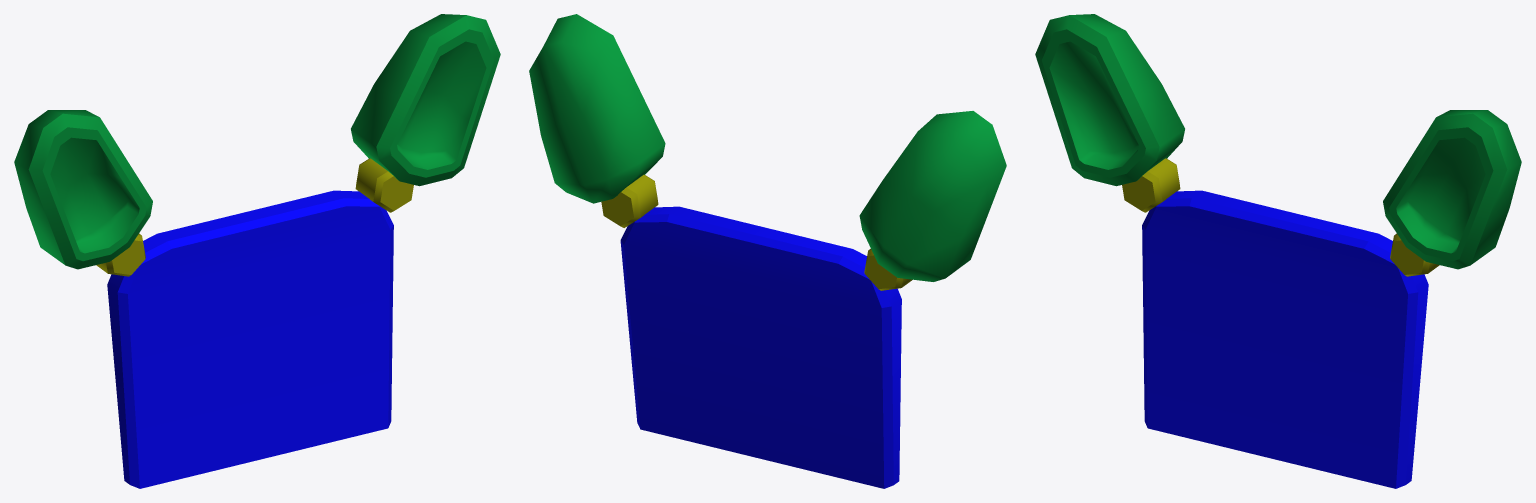
The model's file is m_chapo_oreilles.FBX.
3 views of the same model, side by side, from view 1: azimuth 30°, elevation 25°; view 2: azimuth 150°, elevation 25°; view 3: azimuth 330°, elevation 25° (orthographic).
Parts seen in each view (by area): view 1: Box002, Box005, Cylinder004; view 2: Box002, Box005, Cylinder004; view 3: Box002, Box005, Cylinder004.
Part boxes in pixels (x1,y1,x2,y2): Box002: (107,190,393,488); Box005: (14,14,500,269); Cylinder004: (96,158,413,276); Box002: (620,206,901,488); Box005: (529,14,1006,281); Cylinder004: (601,174,912,290); Box002: (1142,190,1428,488); Box005: (1035,14,1521,269); Cylinder004: (1122,158,1439,276).
Size of the model in its own units: 129 by 103 by 16.01.
